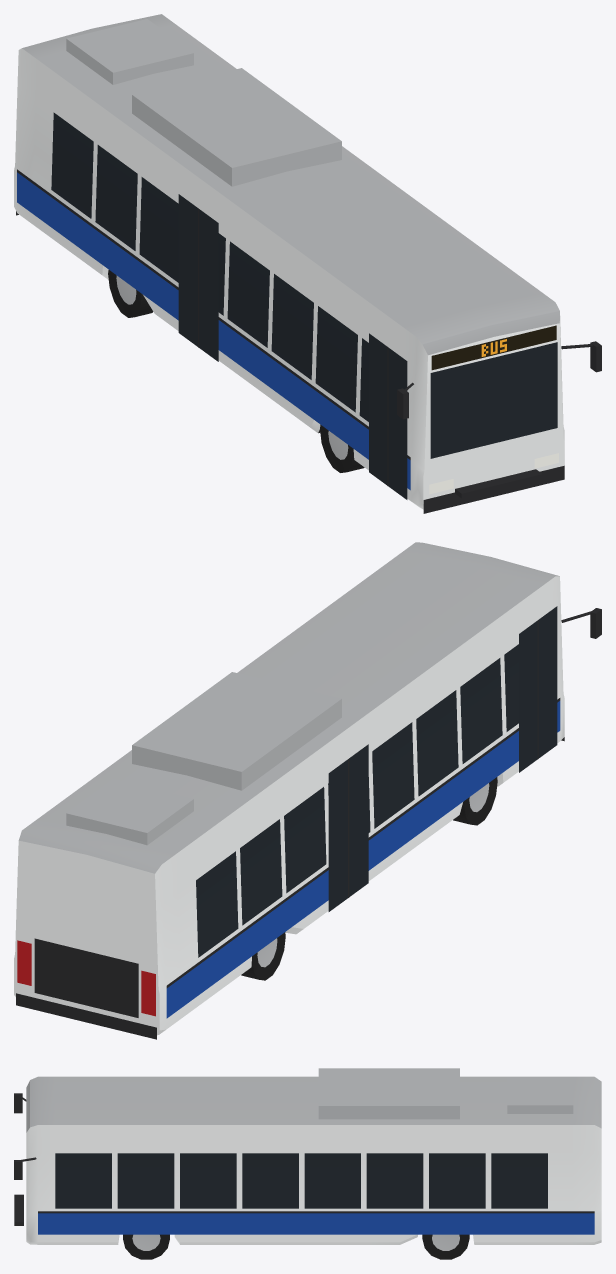
Rendered from nyc_bus.glb.
3 renders of one model, top to bottom at view 1: azimuth 30°, elevation 25°; view 2: azimuth 150°, elevation 25°; view 3: azimuth 270°, elevation 25°, orthographic. The views are drawn at different scales.
Visible parts, largest first — view 1: nyc_bus; view 2: nyc_bus; view 3: nyc_bus.
Boxes of the visible parts, left/top/right/bottom form: nyc_bus: left=14, top=14, right=601, bottom=513; nyc_bus: left=14, top=542, right=601, bottom=1039; nyc_bus: left=14, top=1068, right=601, bottom=1259.
Size of the model in its own units: 3.44 by 3.46 by 12.47.
1 material, 1 textured.
